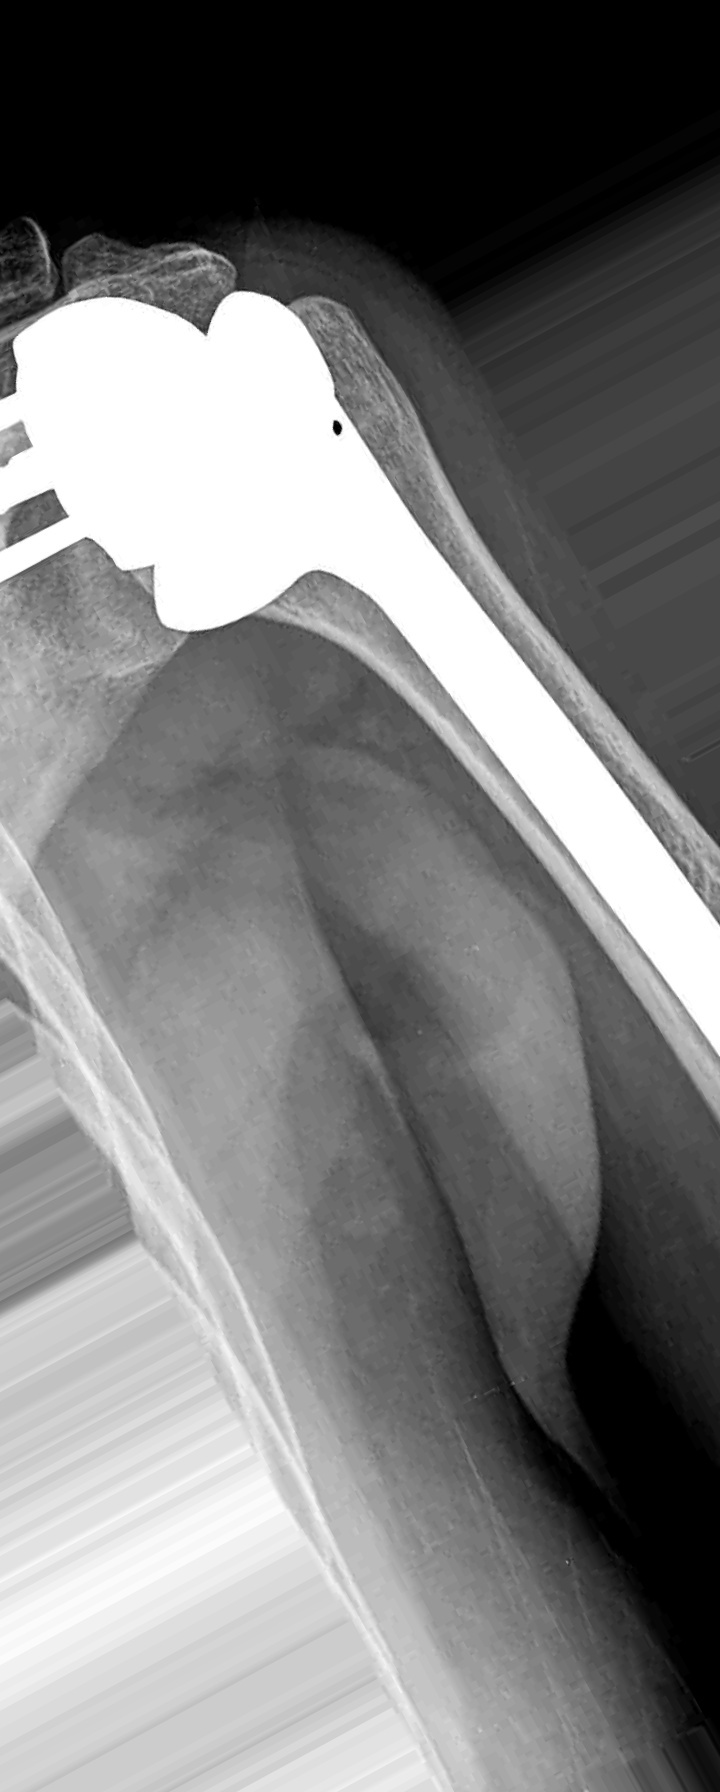Shoulder-Reverse-DJO: (1, 266, 720, 1066)
